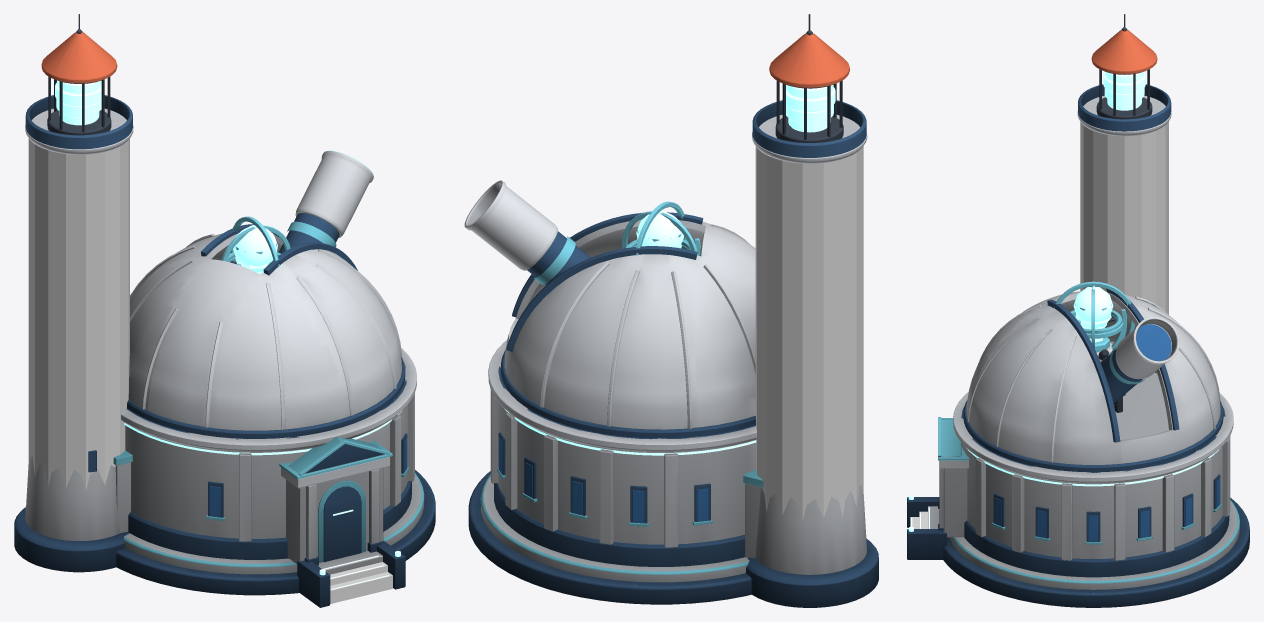
File: landmarks-mission.glb
3 views of the same model, side by side, from view 1: azimuth 30°, elevation 25°; view 2: azimuth 150°, elevation 25°; view 3: azimuth 270°, elevation 25° (orthographic). The views are drawn at different scales.
Visible parts, largest first — view 1: observatory, COL_CYL_tower, ANIM_PULSE_lamp, ANIM_PULSE_top, COL_BOX_step_0, principle_beacon_2, COL_BOX_step_1; view 2: observatory, COL_CYL_tower, ANIM_PULSE_lamp, principle_beacon_2, ANIM_PULSE_top; view 3: observatory, COL_CYL_tower, ANIM_PULSE_lamp, ANIM_PULSE_top, principle_beacon_2.
Boxes of the visible parts, <box> form: observatory: <box>14,14,435,607</box>; COL_CYL_tower: <box>28,138,129,490</box>; ANIM_PULSE_lamp: <box>55,80,101,125</box>; ANIM_PULSE_top: <box>233,225,277,266</box>; COL_BOX_step_0: <box>330,572,393,603</box>; principle_beacon_2: <box>221,216,290,274</box>; COL_BOX_step_1: <box>330,562,387,585</box>; observatory: <box>464,14,878,607</box>; COL_CYL_tower: <box>755,146,863,521</box>; ANIM_PULSE_lamp: <box>786,84,835,132</box>; principle_beacon_2: <box>622,201,697,255</box>; ANIM_PULSE_top: <box>636,210,683,247</box>; observatory: <box>907,14,1249,607</box>; COL_CYL_tower: <box>1080,121,1168,344</box>; ANIM_PULSE_lamp: <box>1103,71,1145,110</box>; ANIM_PULSE_top: <box>1073,287,1113,321</box>; principle_beacon_2: <box>1053,281,1134,348</box>.
Size of the model in its own units: 16.75 by 22.9 by 15.45.
